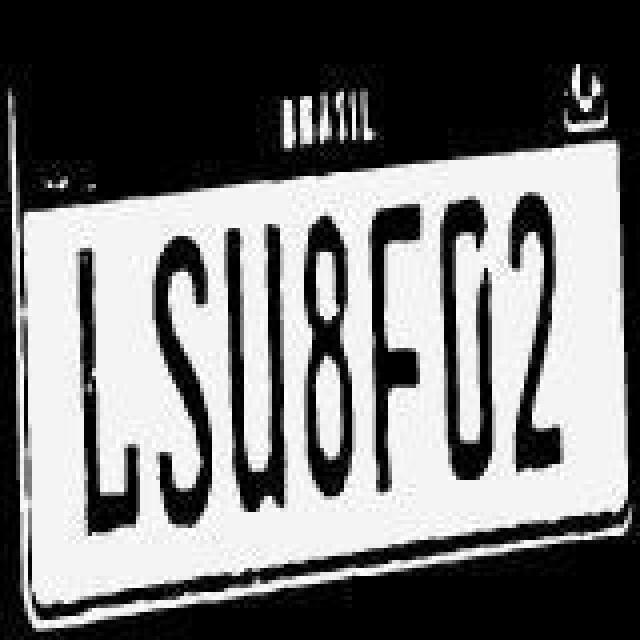2: (508, 190, 564, 474)
8: (300, 214, 356, 506)
D: (442, 190, 502, 482)
F: (370, 200, 430, 504)
L: (70, 236, 146, 540)
S: (146, 230, 214, 530)
U: (218, 214, 294, 530)
